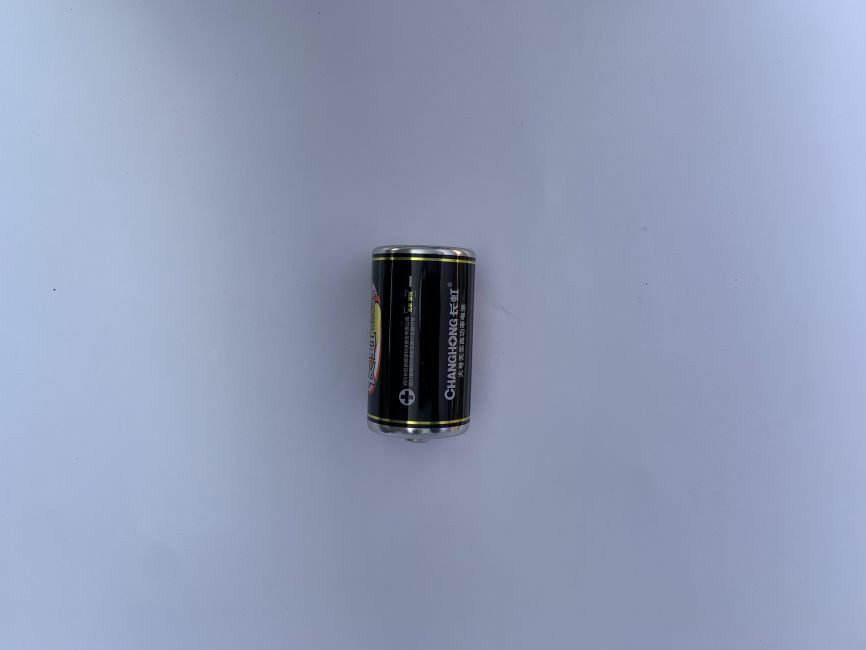charge: (364, 243, 476, 446)
